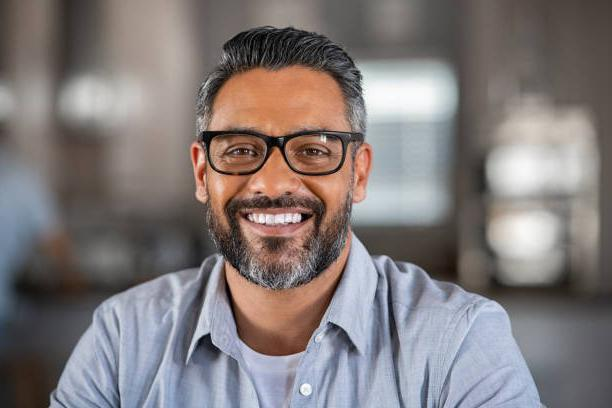Sober: (216, 79, 344, 268)
